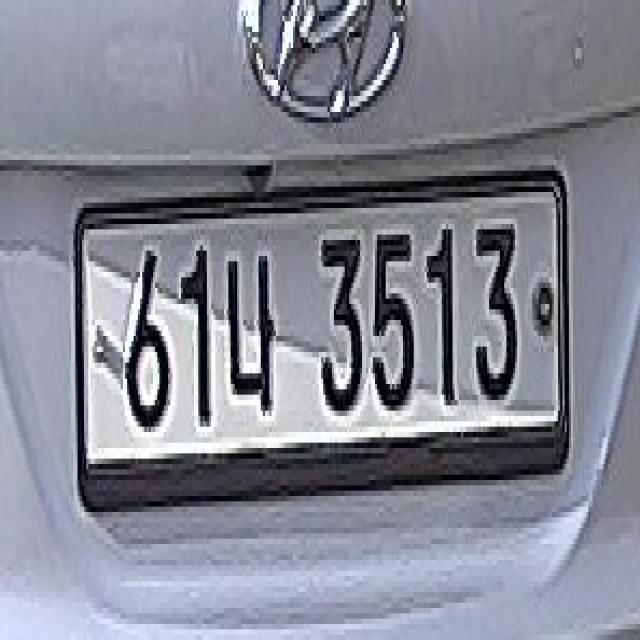1: (176, 241, 218, 435), (423, 217, 461, 412)
3: (471, 209, 524, 406), (314, 225, 366, 419)
5: (369, 224, 418, 415)
6: (122, 237, 174, 437)
license_plate: (59, 136, 592, 547)
na: (223, 245, 279, 423)
